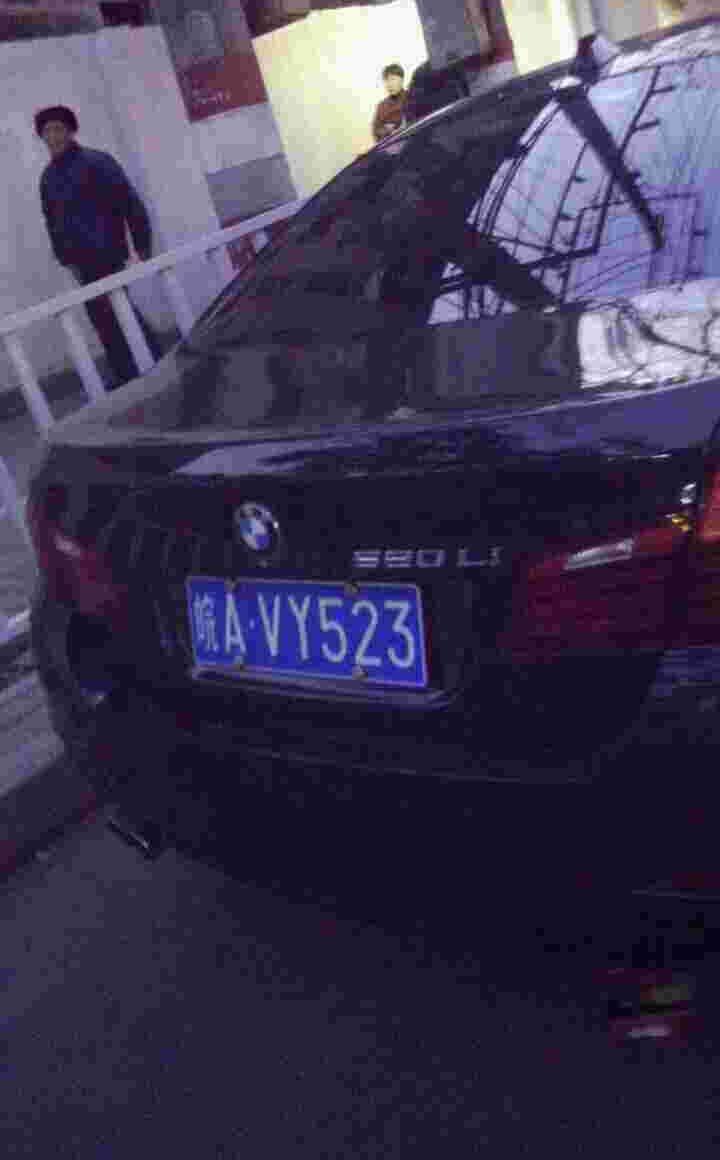plate: (175, 565, 430, 690)
